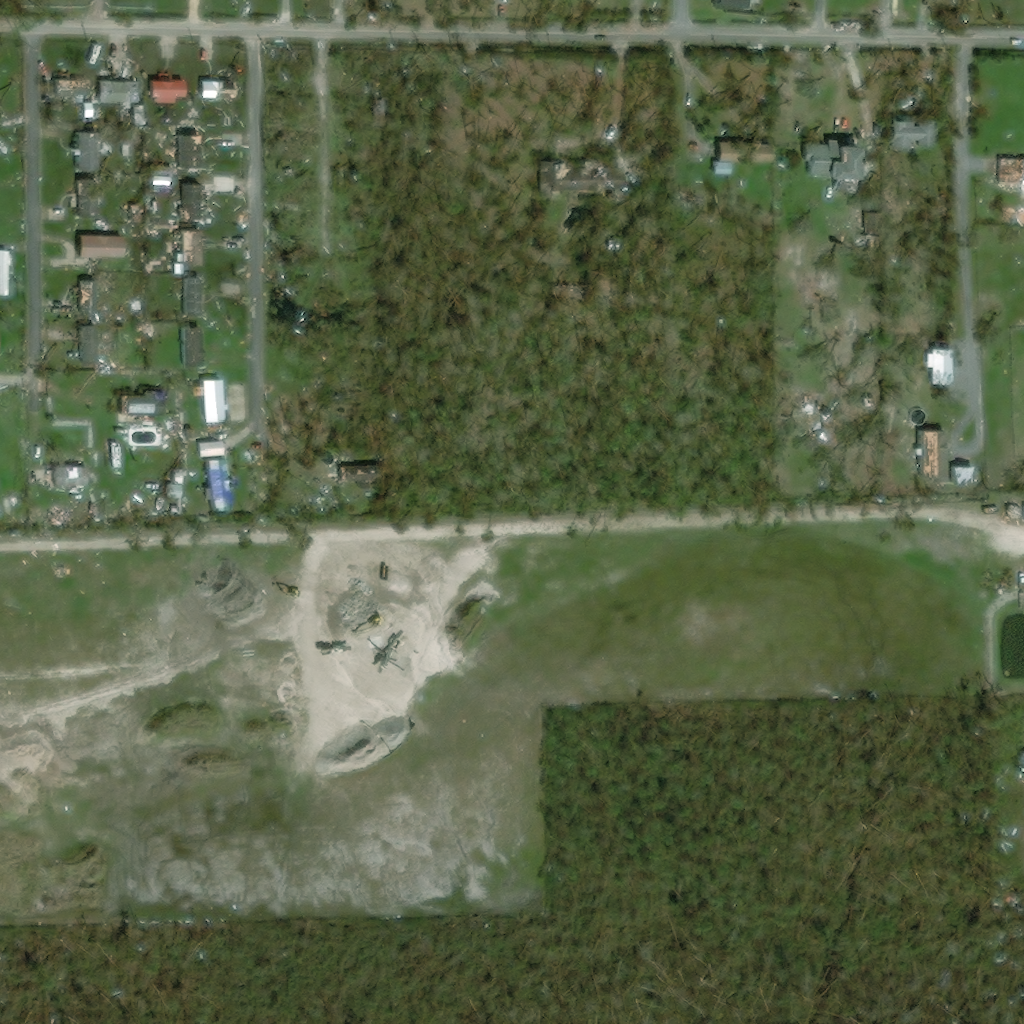destroyed: (676, 187, 717, 212), (804, 389, 827, 415), (54, 508, 72, 523)
major_damage: (95, 61, 140, 104), (121, 390, 166, 425), (196, 74, 236, 101), (177, 181, 202, 222), (337, 467, 376, 491), (52, 79, 89, 102), (131, 108, 141, 122)
minor_damage: (804, 140, 857, 192), (912, 431, 952, 488), (206, 459, 233, 511), (73, 134, 103, 172), (928, 348, 954, 384), (177, 230, 203, 266), (76, 180, 99, 218), (995, 158, 1023, 187), (184, 326, 205, 363), (178, 136, 202, 168), (54, 466, 90, 487), (79, 282, 96, 315), (951, 466, 976, 488)
no_damage: (716, 139, 773, 165), (77, 233, 125, 259), (888, 122, 929, 151), (149, 73, 186, 104), (203, 378, 225, 421), (185, 279, 205, 317), (79, 328, 97, 367), (166, 468, 186, 502), (0, 251, 15, 296), (198, 443, 224, 459), (706, 162, 732, 174), (147, 165, 172, 176), (151, 193, 159, 214), (128, 210, 138, 223), (160, 113, 171, 123), (153, 313, 163, 323), (117, 309, 128, 318), (172, 427, 180, 437), (209, 429, 218, 435)
unclassified: (894, 344, 919, 358)
